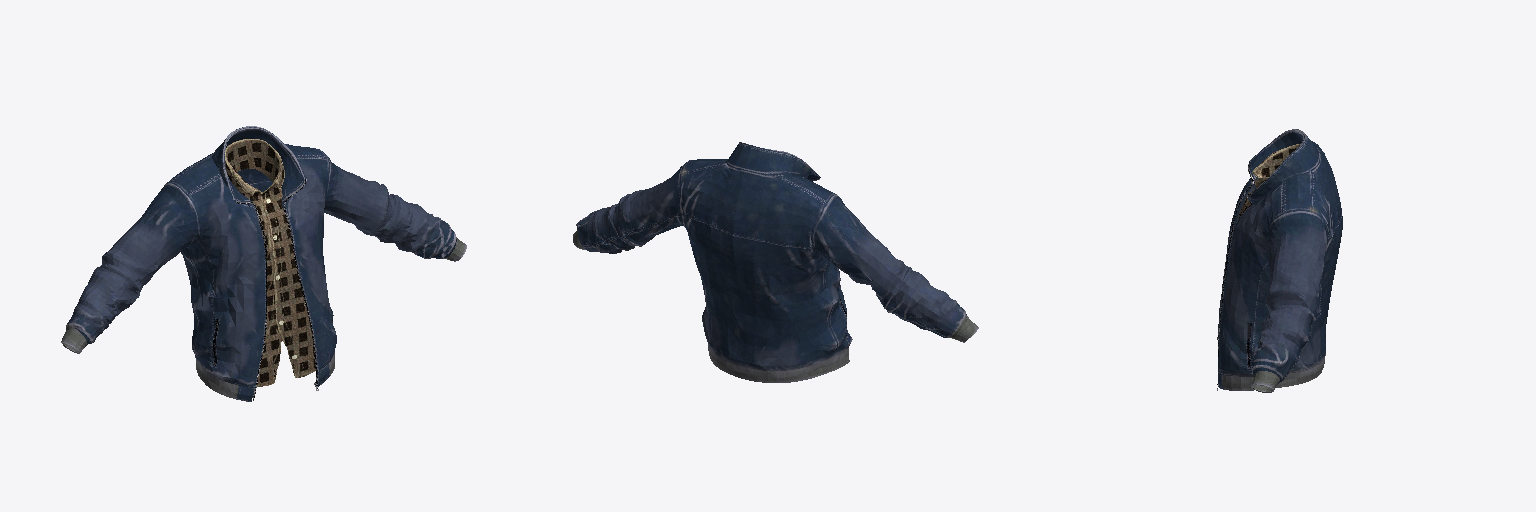
3 renders of one model, left to right at view 1: azimuth 30°, elevation 25°; view 2: azimuth 150°, elevation 25°; view 3: azimuth 270°, elevation 25°, orthographic.
Parts seen in each view (by area): view 1: Object; view 2: Object; view 3: Object.
Boxes of the visible parts, x1=… form: Object: x1=61, y1=126, x2=466, y2=401; Object: x1=573, y1=142, x2=978, y2=382; Object: x1=1217, y1=129, x2=1342, y2=392.
Bounding box in the file's own units: 2.41 × 1.37 × 0.6511.
Materials: 1 (1 with a texture image).